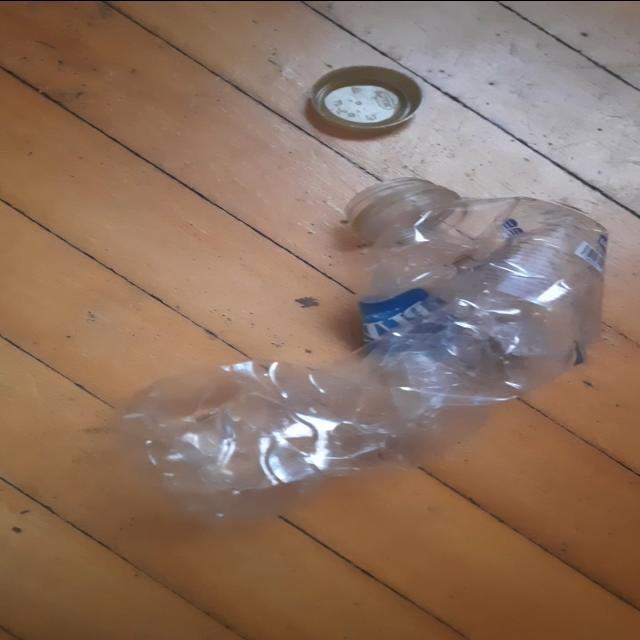Plastic: (111, 178, 609, 520)
